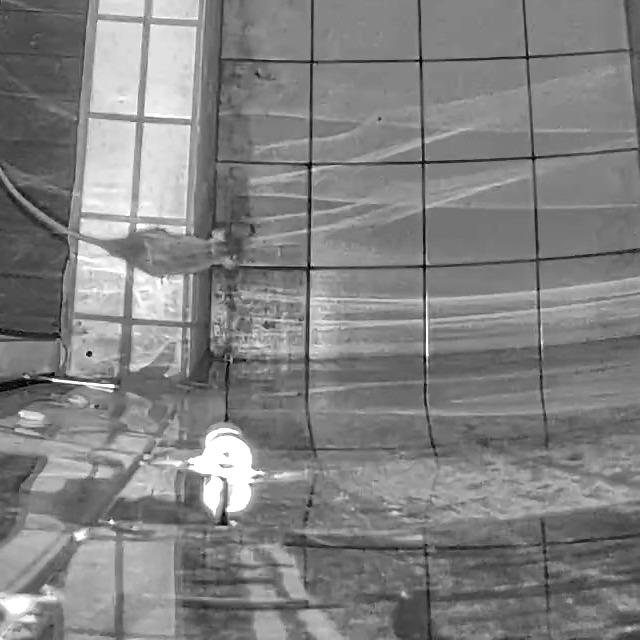rat: (0, 164, 240, 286)
